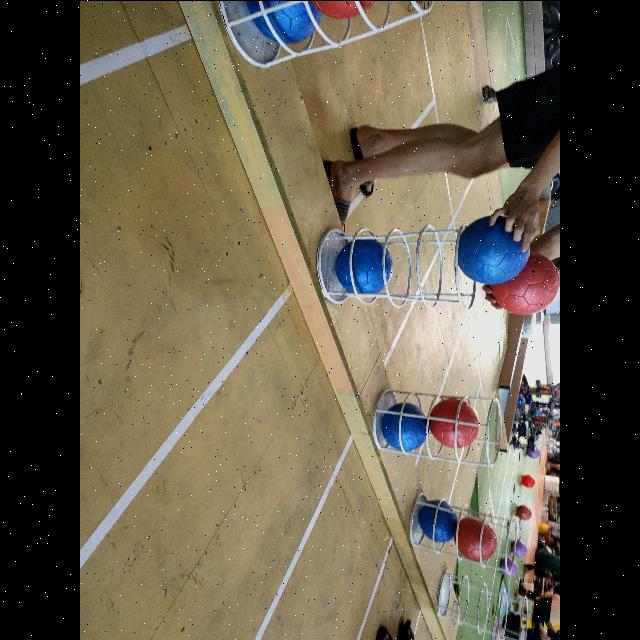B: (334, 238, 392, 296), (245, 0, 315, 44), (384, 402, 428, 451), (419, 500, 455, 540)
R: (429, 398, 479, 448), (456, 516, 496, 562), (304, 0, 382, 18)
